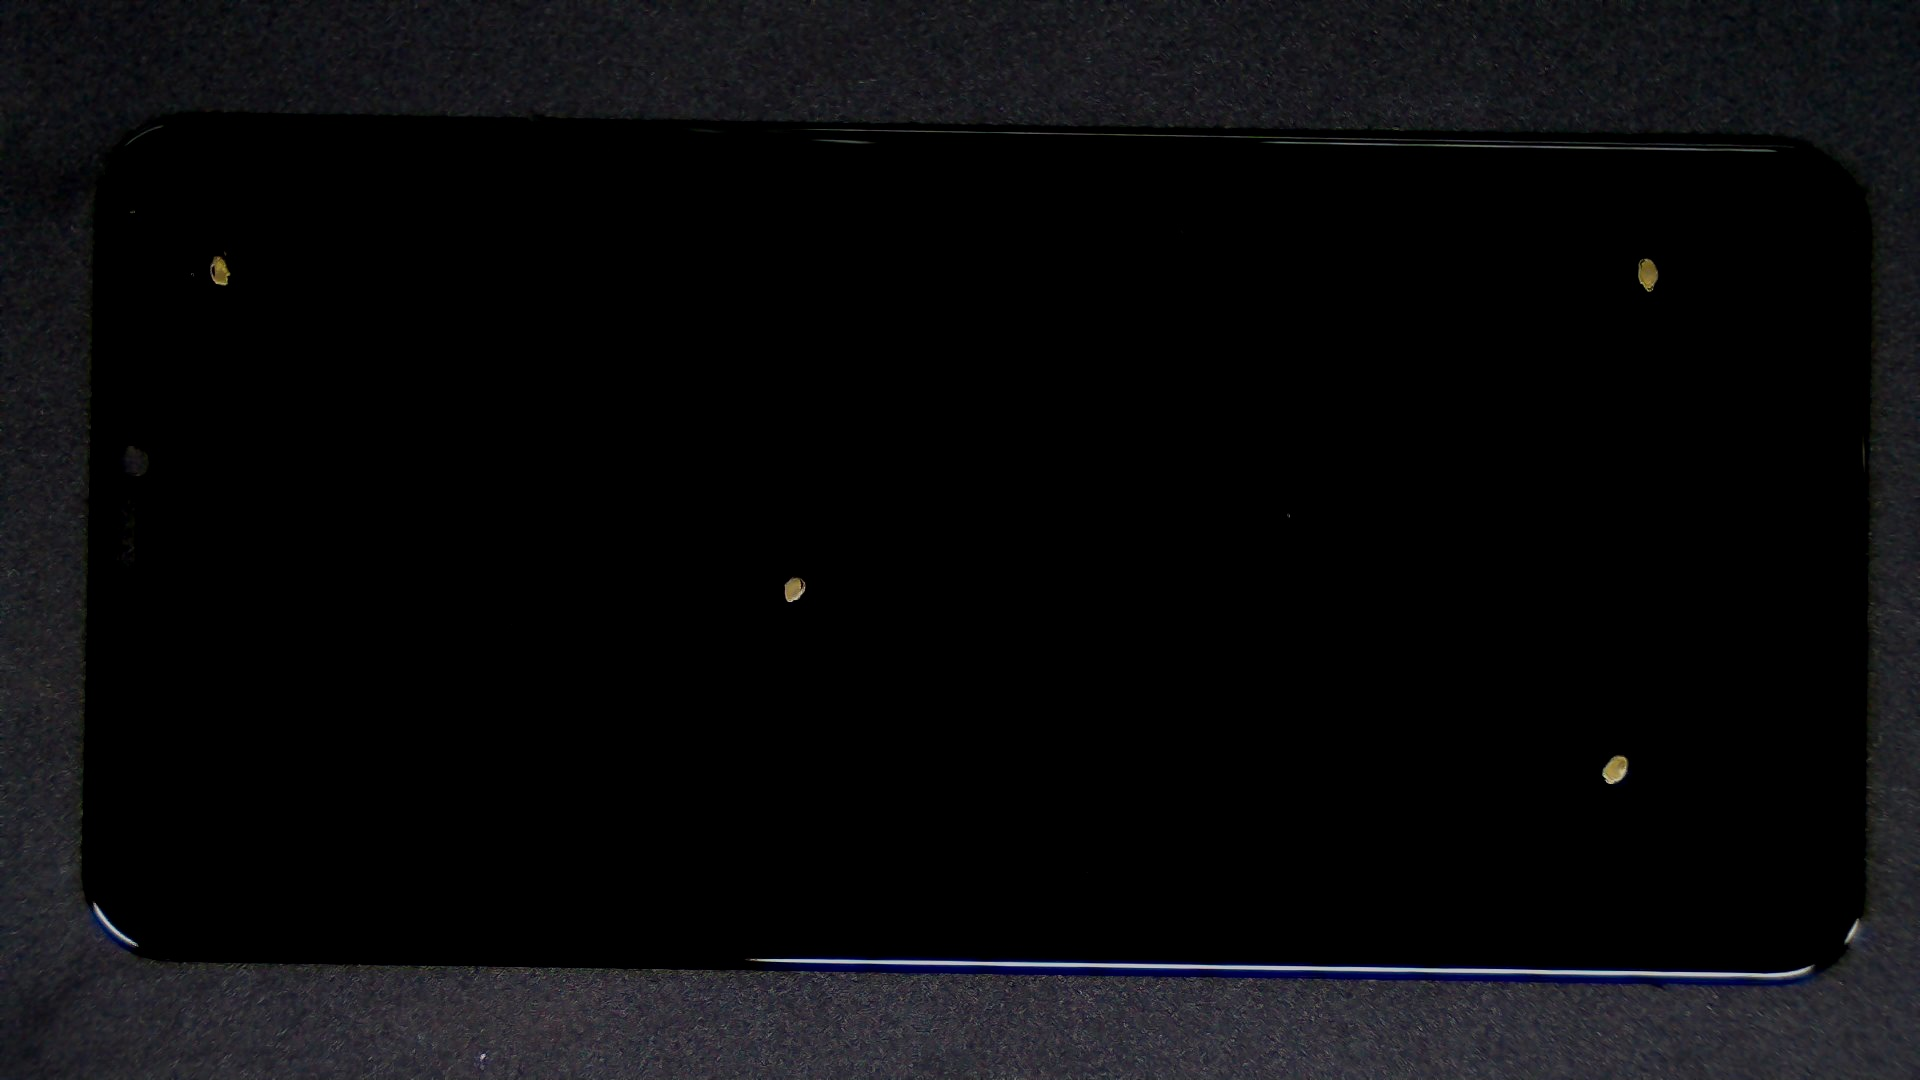oil: (811, 372, 1920, 1080), (399, 287, 1195, 862), (827, 127, 1920, 384), (106, 126, 319, 380)
